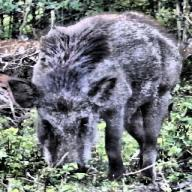boar: (6, 9, 192, 181)
